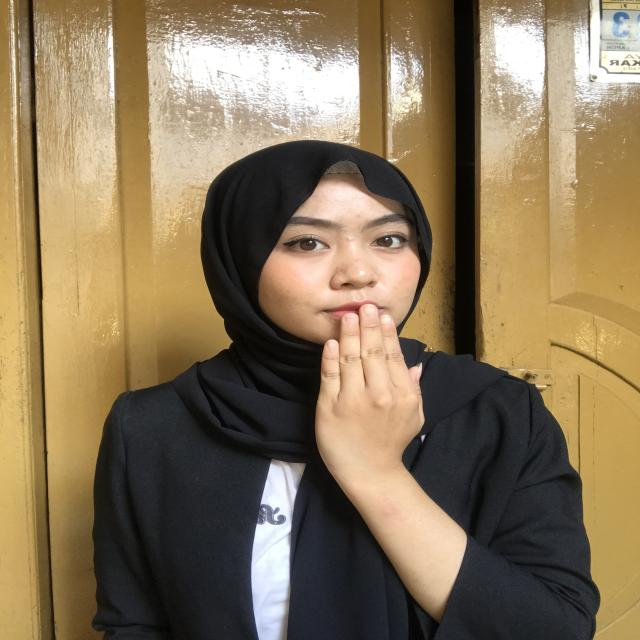ganteng: (295, 298, 458, 502)
